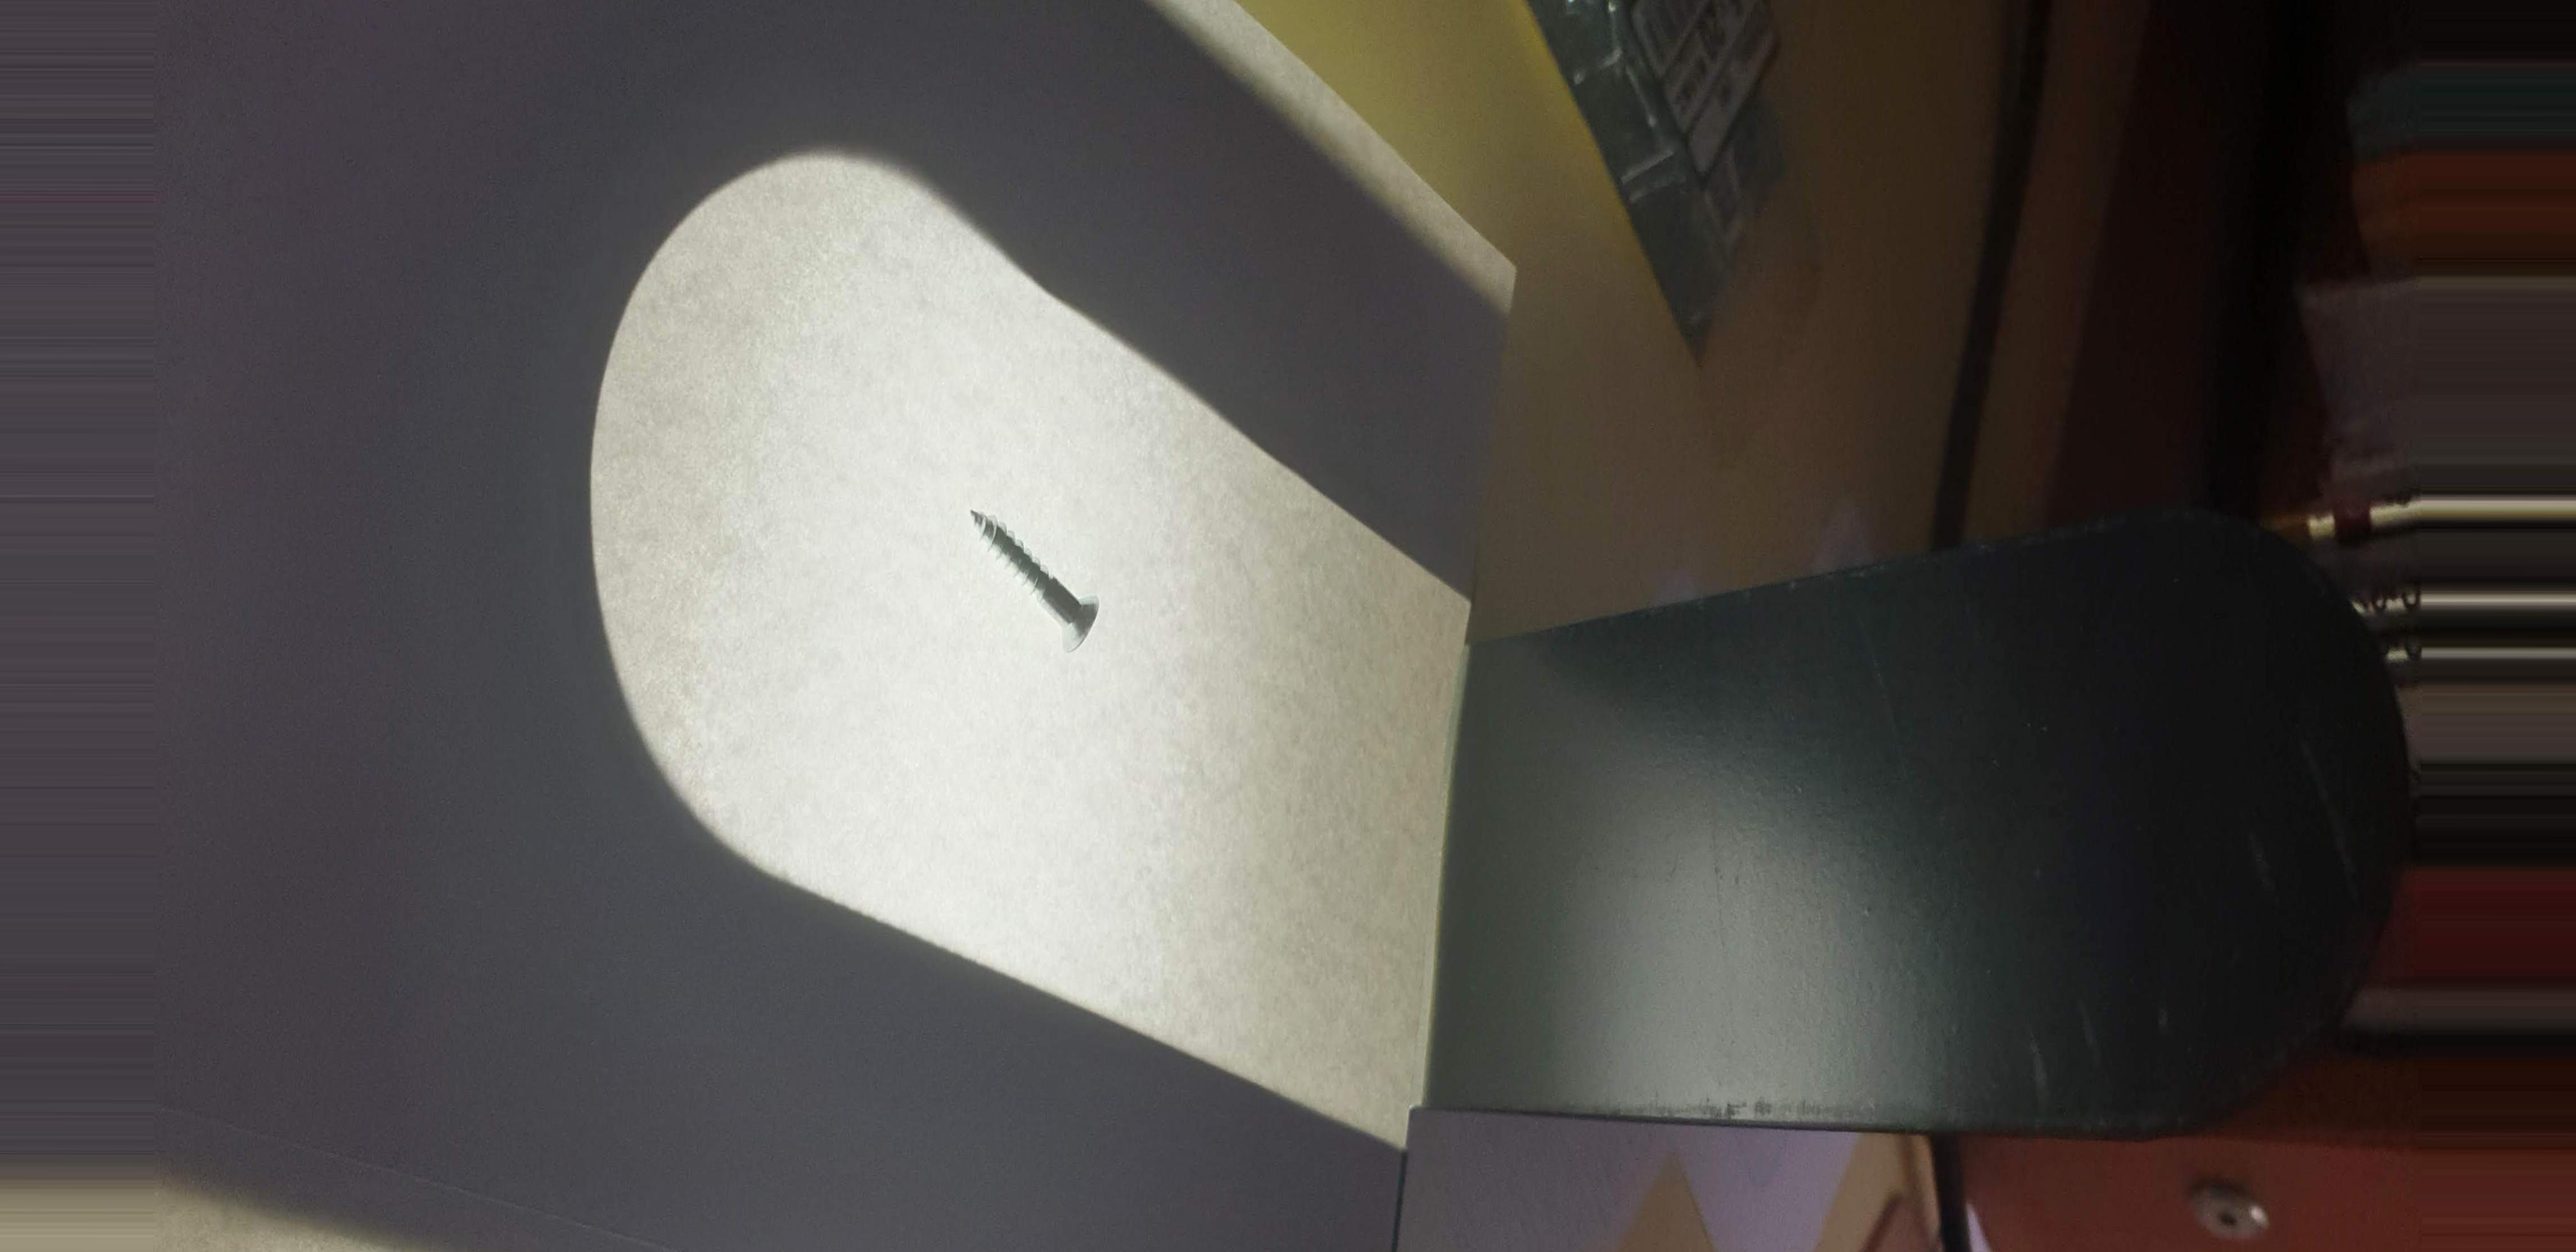S005: (923, 478, 1147, 684)
